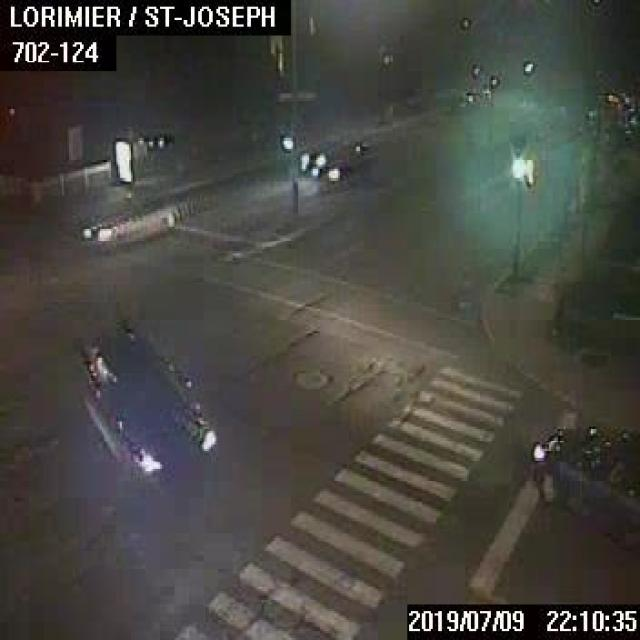vehicle: (78, 327, 216, 478), (528, 420, 638, 551), (80, 194, 178, 249), (311, 144, 378, 182), (298, 144, 336, 177)
